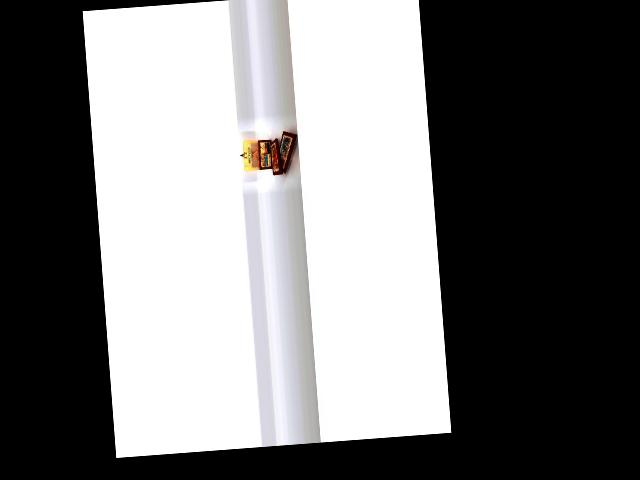chocolate: (274, 121, 303, 176)
